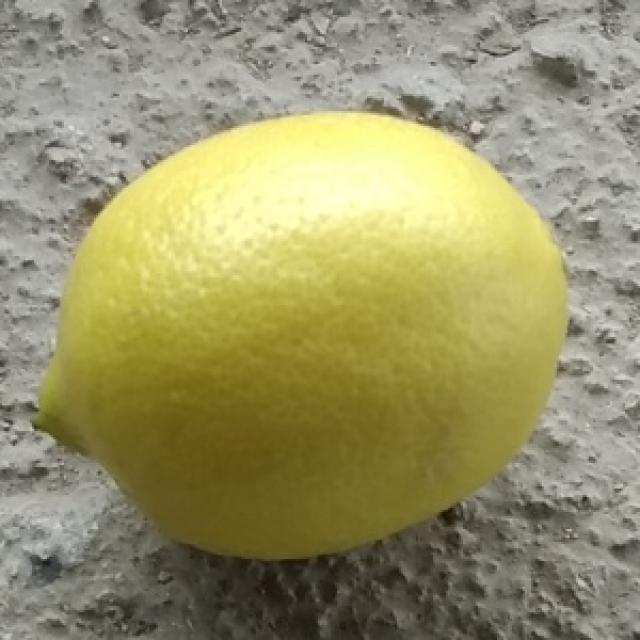Ripe: (30, 110, 576, 564)
